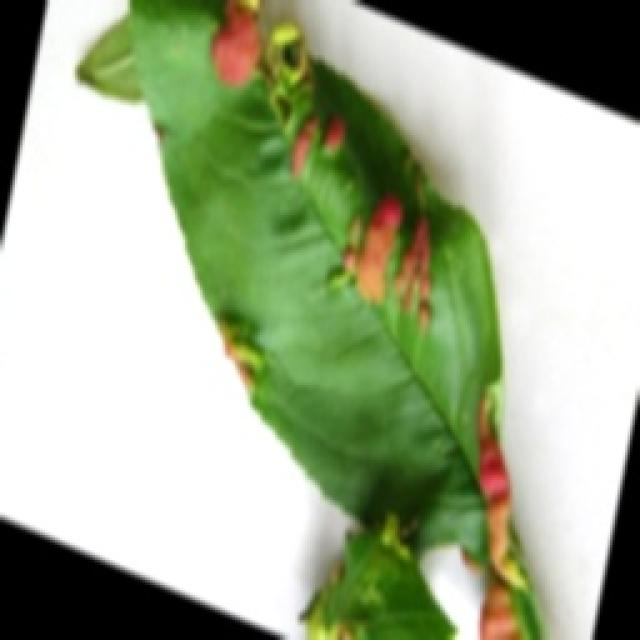peach_leaf_curl: (72, 0, 560, 638)
